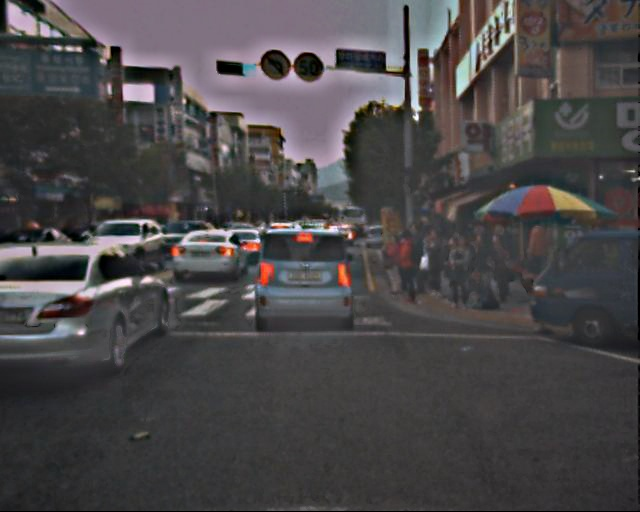person: (395, 229, 425, 302), (522, 219, 552, 292), (446, 235, 475, 305), (487, 219, 516, 289), (486, 234, 513, 299), (466, 223, 493, 288), (421, 226, 447, 289), (382, 235, 405, 292)
